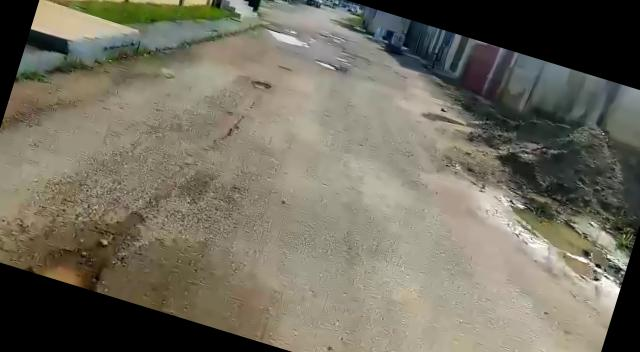pothole: (32, 243, 98, 289), (264, 27, 312, 50), (311, 55, 343, 72), (248, 77, 272, 92)
